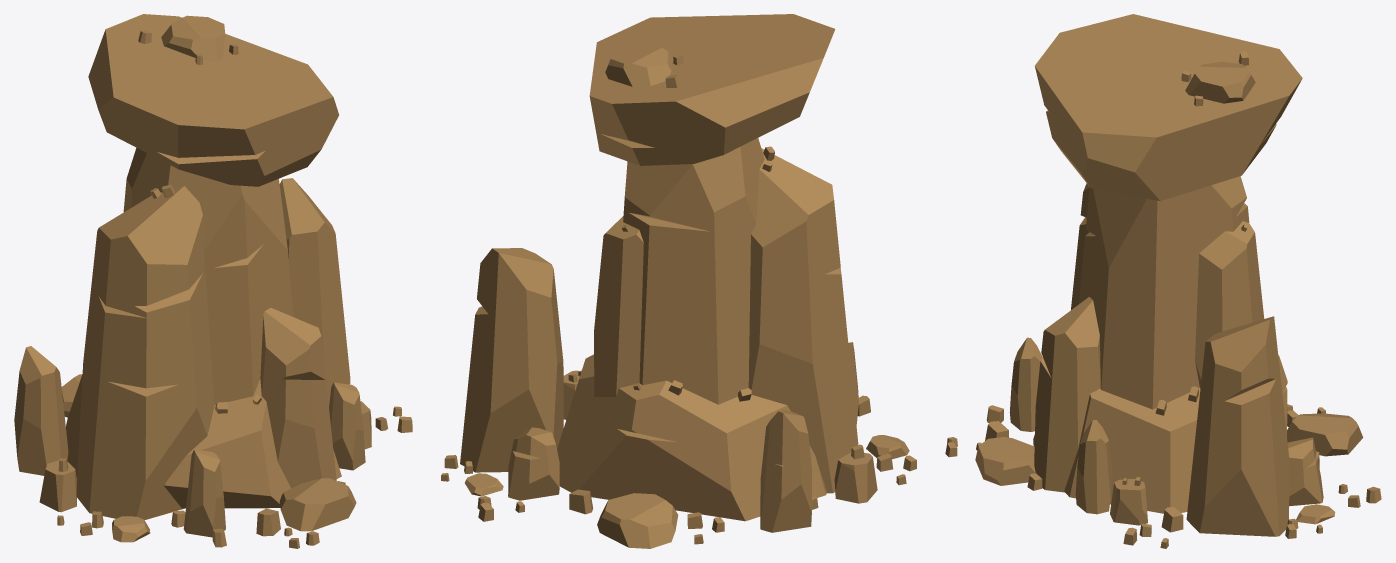
File: roca01.fbx
The picture shows the model from 3 angles, left to right: view 1: azimuth 30°, elevation 25°; view 2: azimuth 150°, elevation 25°; view 3: azimuth 270°, elevation 25°; orthographic projection. The views are drawn at different scales.
Visible parts, largest first — view 1: big_rock_02_Cylinder_007; view 2: big_rock_02_Cylinder_007; view 3: big_rock_02_Cylinder_007.
Boxes of the visible parts, left/top/right/bottom form: big_rock_02_Cylinder_007: left=14, top=14, right=412, bottom=548; big_rock_02_Cylinder_007: left=441, top=14, right=916, bottom=548; big_rock_02_Cylinder_007: left=945, top=14, right=1381, bottom=548.
Bounding box in the file's own units: 177 × 186 × 185.
